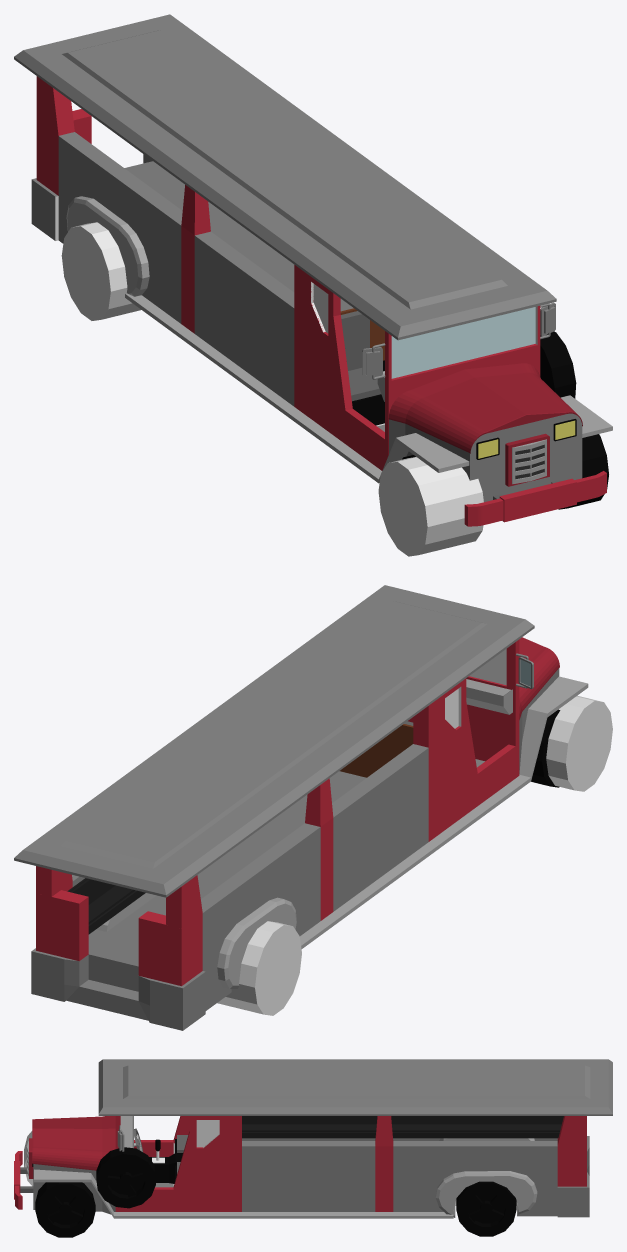
The model's file is jeepjeep3.fbx.
3 views of the same model, one above another, from view 1: azimuth 30°, elevation 25°; view 2: azimuth 150°, elevation 25°; view 3: azimuth 270°, elevation 25° (orthographic). The views are drawn at different scales.
Parts seen in each view (by area): view 1: Cube, Cube.001, Cube.003, Cube.004, Cylinder.002, Plane.001, Cylinder, Cube.006, Cube.002, Cylinder.004, Cylinder.007, Plane.002 (+3 smaller); view 2: Cube, Cube.001, Cube.003, Plane.001, Cylinder.002, Cylinder, Cube.002, Cube.004, Cube.007, Plane.004, Cube.010, Cylinder.003; view 3: Cube, Cube.001, Cube.007, Cube.003, Cube.004, Plane.001, Cylinder.007, Cylinder.003, Cylinder.001, Cube.002, Cylinder.004, Cube.006 (+1 smaller).
Boxes of the visible parts, x1,y1,x2,y2 form: Cube: (14,14,556,340); Cube.001: (31,76,353,416); Cube.003: (307,274,540,470); Cube.004: (389,363,582,502); Cylinder.002: (378,457,483,556); Plane.001: (125,293,612,483); Cylinder: (61,222,140,320); Cube.006: (464,471,606,526); Cube.002: (66,196,149,296); Cylinder.004: (341,311,384,425); Cylinder.007: (540,331,576,398); Plane.002: (512,439,546,484); Cube: (14,585,534,897); Cube.001: (31,696,441,1030); Cube.003: (408,639,519,832); Plane.001: (300,676,588,948); Cylinder.002: (546,695,612,791); Cylinder: (217,921,301,1015); Cube.002: (96,893,296,988); Cube.004: (519,637,559,773); Cube.007: (67,878,145,934); Plane.004: (340,724,413,777); Cube.010: (466,679,512,714); Cylinder.003: (531,709,560,787); Cube: (98,1059,612,1115); Cube.001: (224,1116,589,1217); Cube.007: (242,1116,563,1138); Cube.003: (115,1116,224,1211); Cube.004: (29,1116,115,1214); Plane.001: (34,1169,453,1218); Cylinder.007: (96,1147,155,1208); Cylinder.003: (35,1182,95,1237); Cylinder.001: (456,1181,516,1236); Cube.002: (435,1138,537,1217); Cylinder.004: (149,1135,188,1183); Cube.006: (14,1151,22,1209).
Size of the model in its own units: 3157 by 2934 by 12080.
